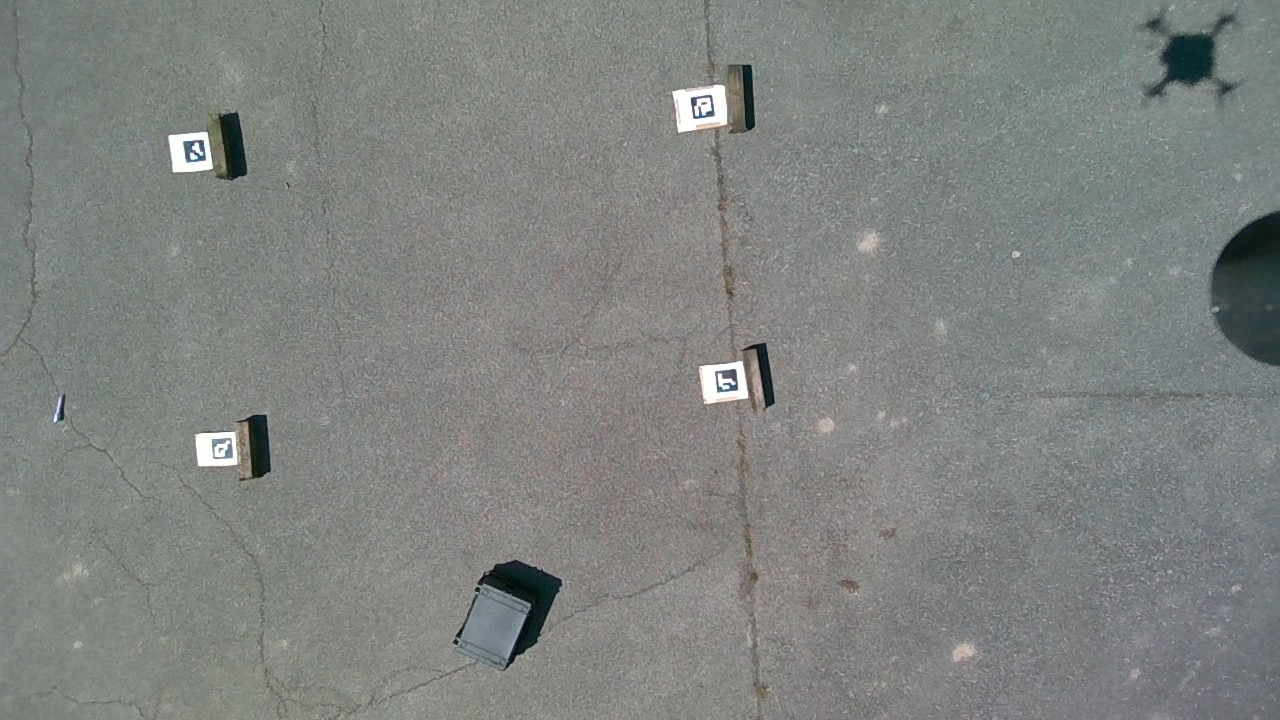probes: (53, 394, 64, 422)
rako: (453, 573, 537, 669)
